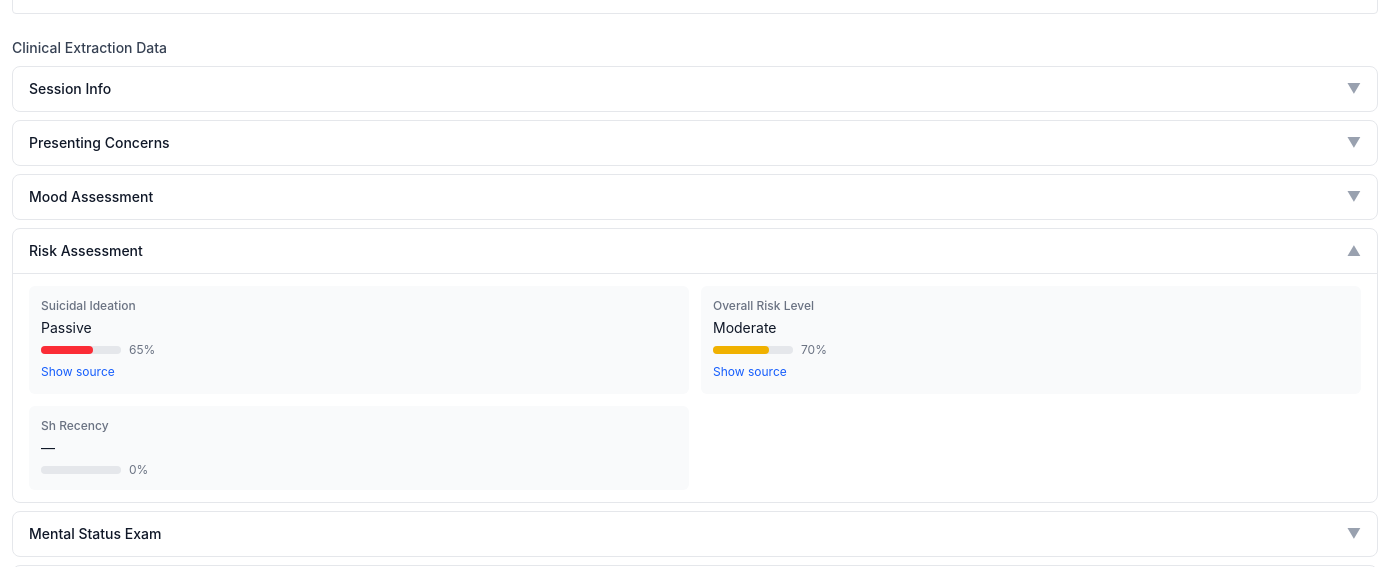
Test: SessionDetail › toggles source attribution panel on click
(page scrolled)
Expected: the text "Risk Assessment" is shown, [29,241,143,261]
// Click first "Show source" button
Click the 1st button "Show source". click: click(78, 372)
box: [41,364,115,380]
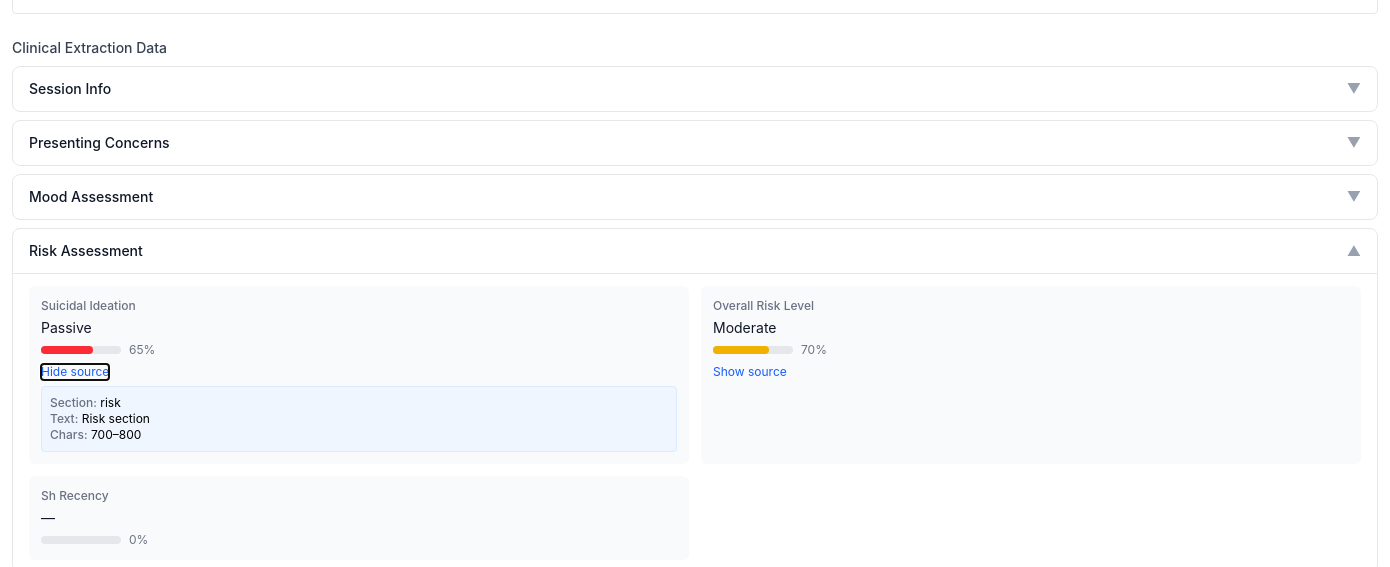
Now the button "Hide source" is shown
Now the text "Section:" is shown, box [50,395,97,410]
Now the text "Chars:" is shown, box [50,427,88,442]
// Click hide
Click the button "Hide source". click: click(75, 372)
box: [41,364,109,380]
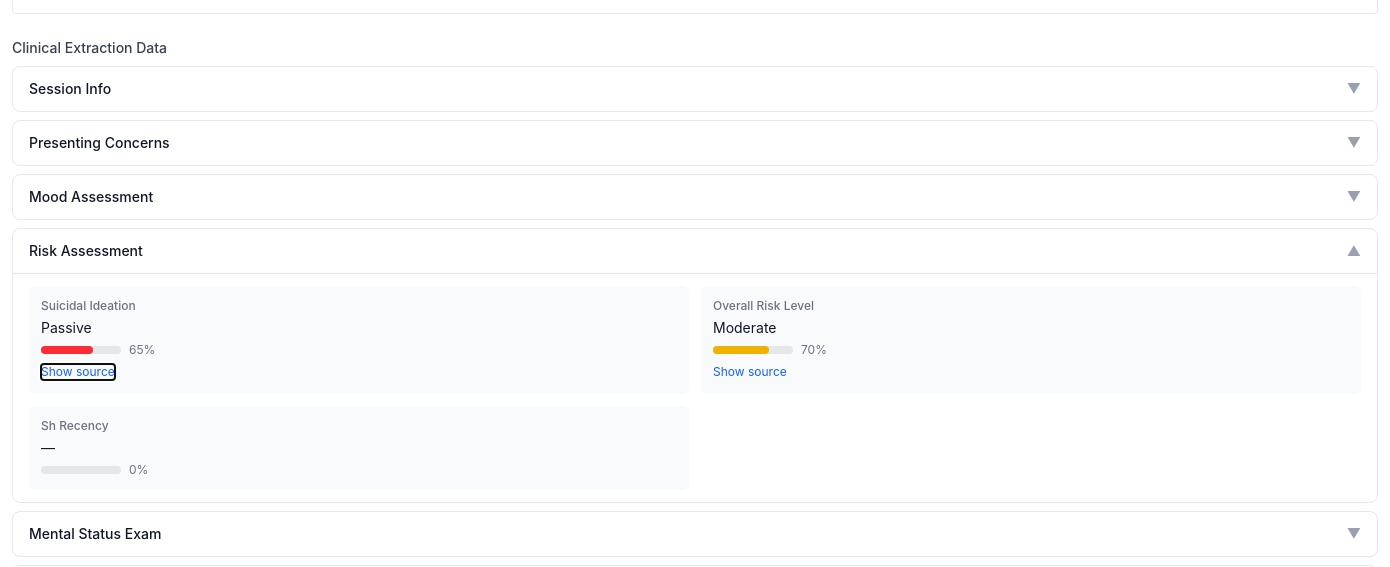
Now the button "Hide source" is gone
